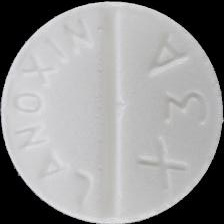69189-0494: (0, 0, 224, 224)
